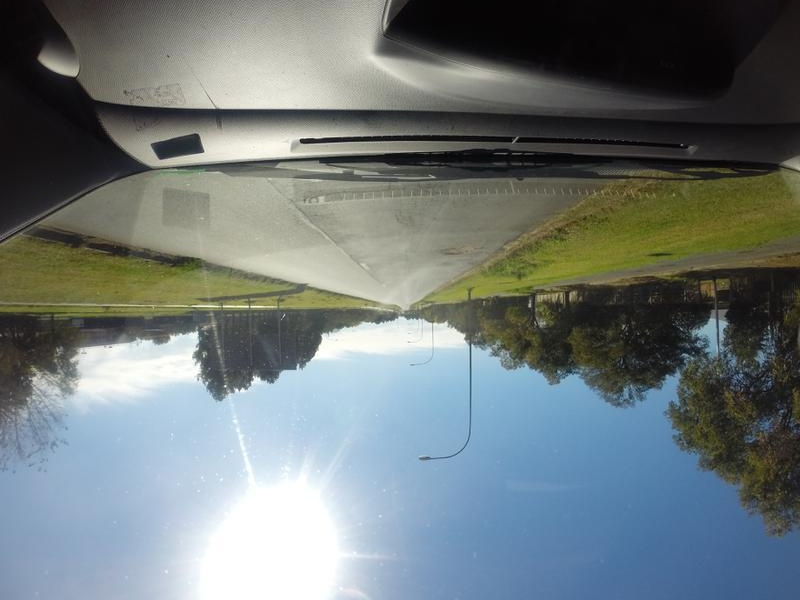pothole: (424, 244, 473, 258)
